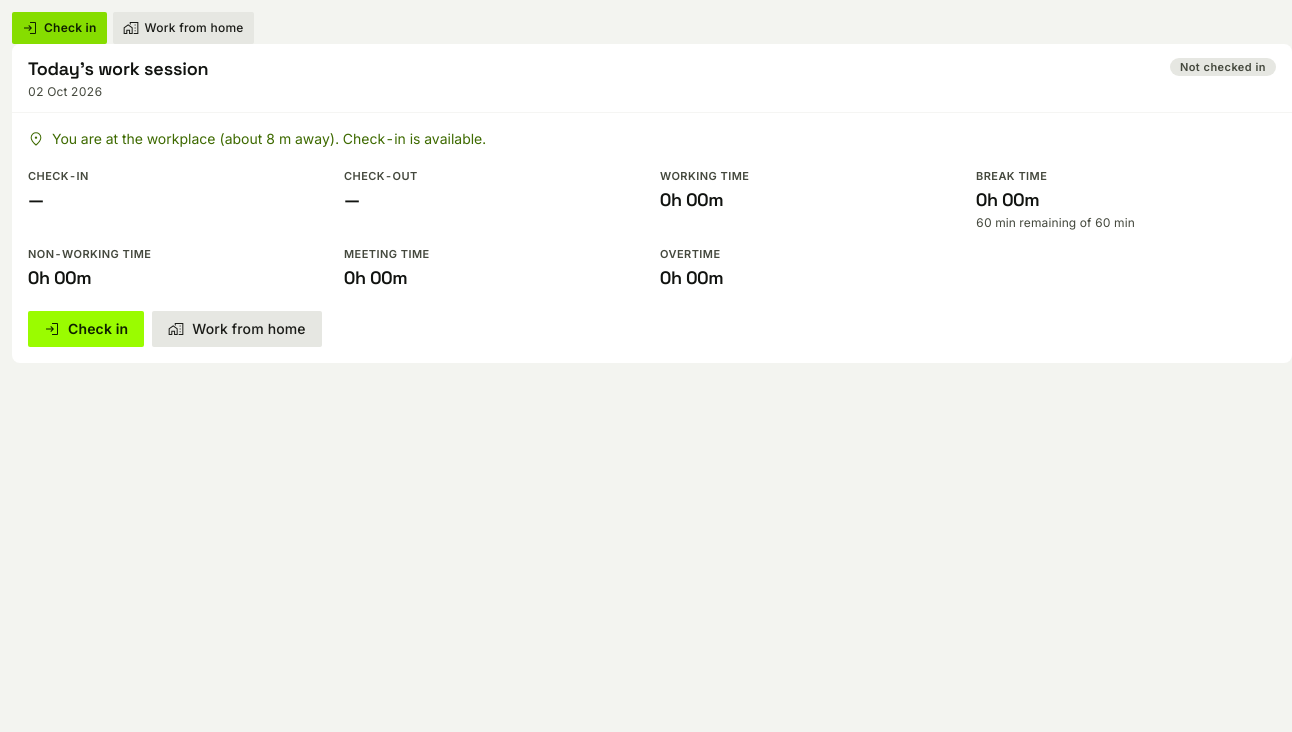
Test: geofenced office check-in › enables Check in inside the area and sends raw coordinates for the server to verify
The width and height of the screenshot is (1292, 732).
Click the button "Check in" below "Non-working time" at point(86, 329), box 28,311 -> 144,347
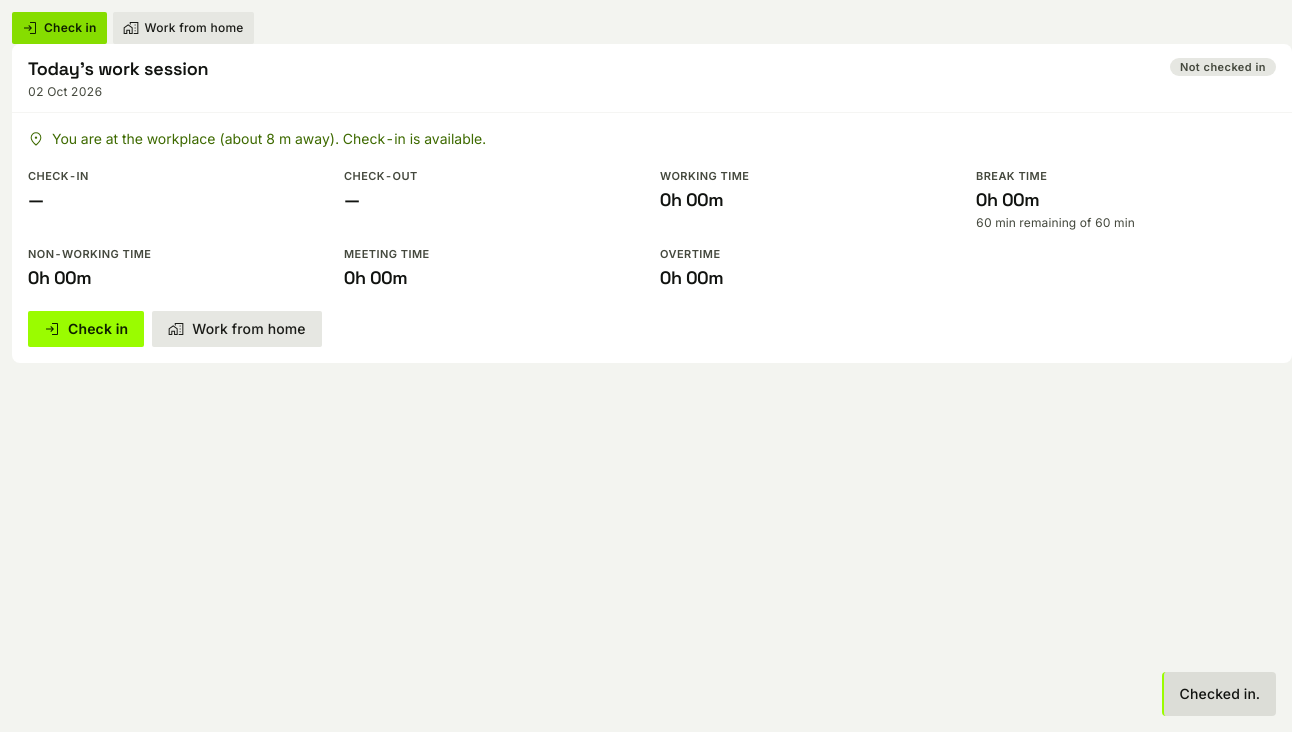
Now the text "Checked in." is shown, box 1162,672 -> 1276,716
